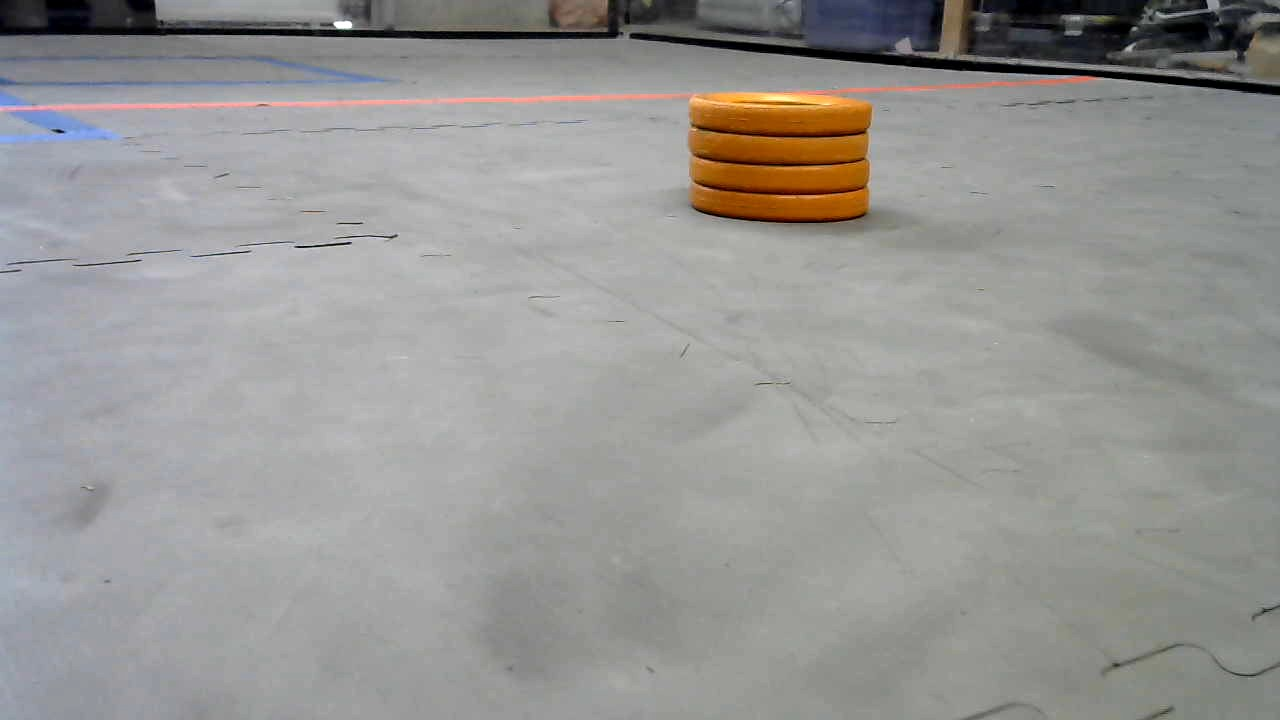FourStack: (687, 93, 872, 220)
